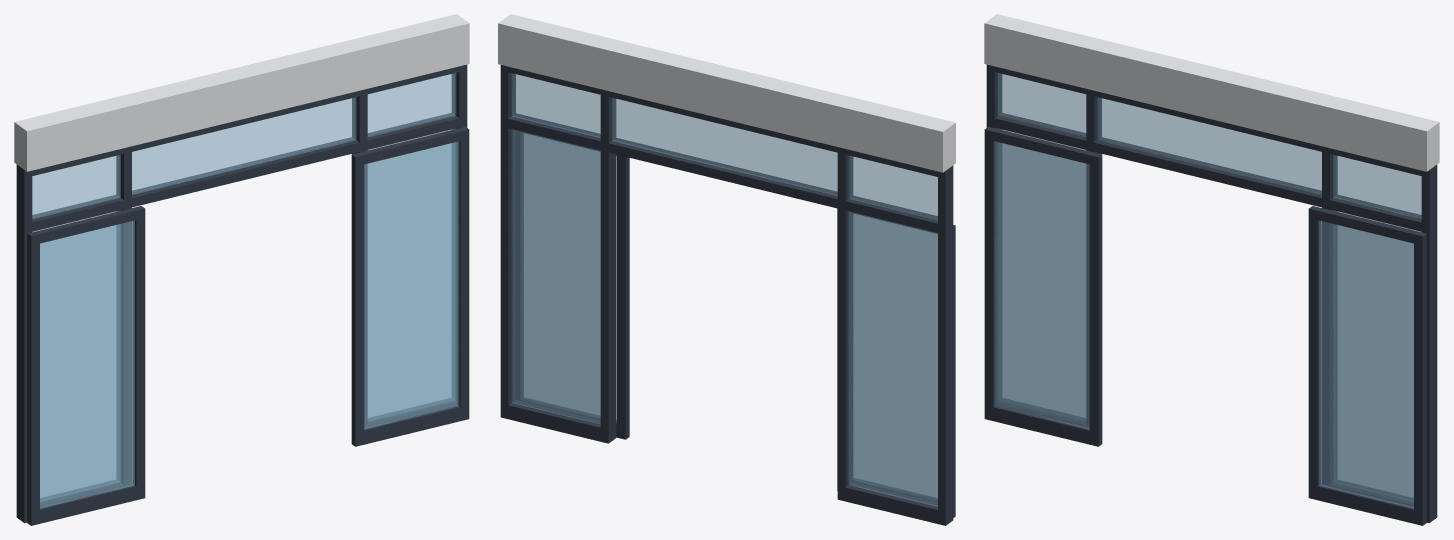
Rendered from Wall_Door.obj.
3 views of the same model, side by side, from view 1: azimuth 30°, elevation 25°; view 2: azimuth 150°, elevation 25°; view 3: azimuth 330°, elevation 25° (orthographic).
Visible parts, largest first — view 1: Glass, Wall, Door_R, Door_L; view 2: Glass, Wall, Door_R, Door_L; view 3: Glass, Wall, Door_L, Door_R.
Boxes of the visible parts, left/top/right/bottom form: Glass: left=32, top=73, right=456, bottom=501; Wall: left=14, top=14, right=469, bottom=523; Door_R: left=351, top=126, right=469, bottom=446; Door_L: left=27, top=206, right=145, bottom=525; Glass: left=512, top=73, right=937, bottom=506; Wall: left=498, top=14, right=955, bottom=525; Door_R: left=516, top=130, right=629, bottom=439; Door_L: left=837, top=209, right=955, bottom=517; Glass: left=997, top=73, right=1421, bottom=501; Wall: left=984, top=14, right=1439, bottom=523; Door_L: left=984, top=126, right=1102, bottom=446; Door_R: left=1308, top=206, right=1426, bottom=525.
Size of the model in its own units: 4 by 3.4 by 0.23.
